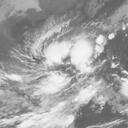cyclone: (31, 26, 95, 99)
